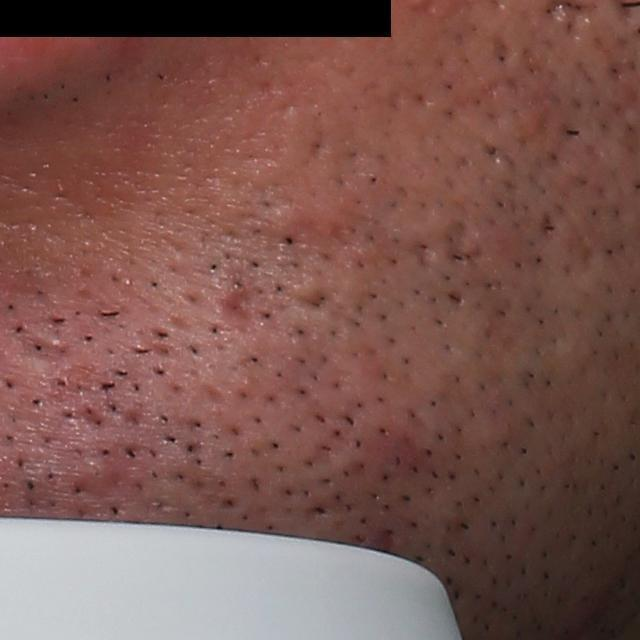atrophic_scar: (440, 210, 488, 278), (217, 271, 255, 327), (283, 283, 341, 316)
